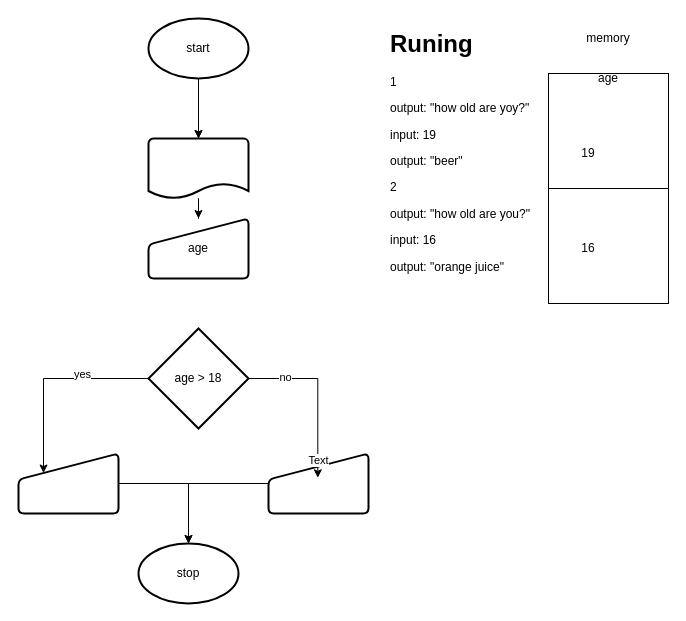
The diagram is 686 pixels wide and 621 high, and some of its shapes have lost their labels. The shapes that lost their labels are listed below. From the top down, each one's centre as x and y in pixels, then its label:
pixel 198 168: "how old are you?"
pixel 68 483: beer
pixel 318 483: orange juice
